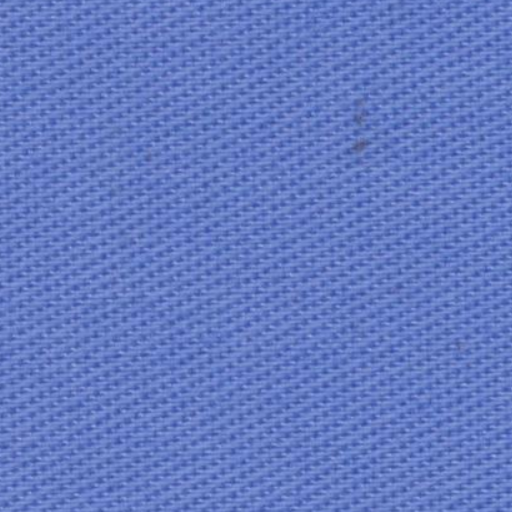WuZi: (318, 94, 392, 178)
